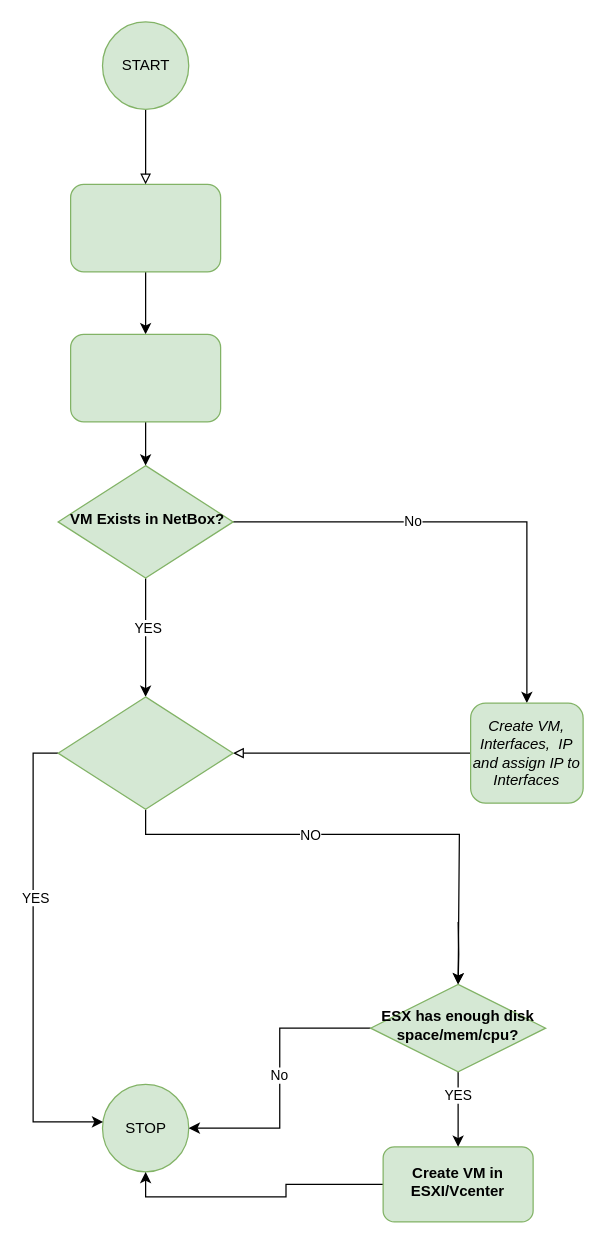
This 605x1244 diagram has some shape labels left out. Each missing label, with the centre of its shape:
"Input VM attributes: Name, IP, Platform, Cluster, Site, Role etc." belongs at point (145, 377).
"Jenkins job with build parameters" belongs at point (145, 227).
"VM exists in Vcenter?" belongs at point (145, 752).
